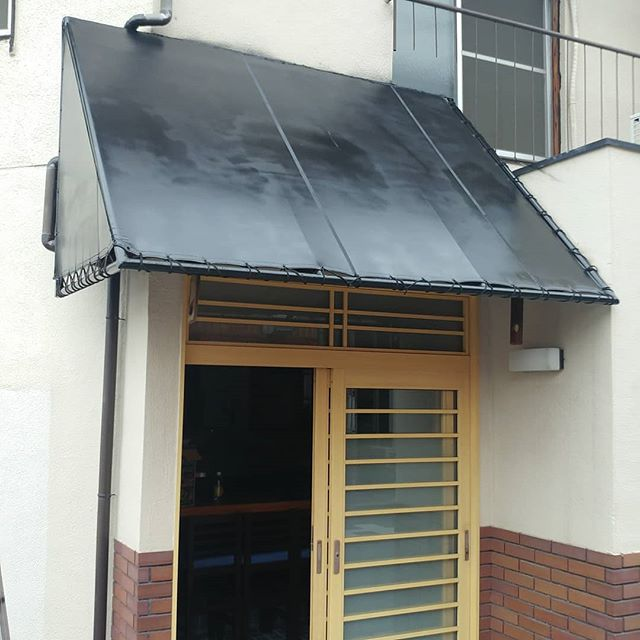building: (1, 1, 636, 634)
door: (178, 358, 470, 640)
